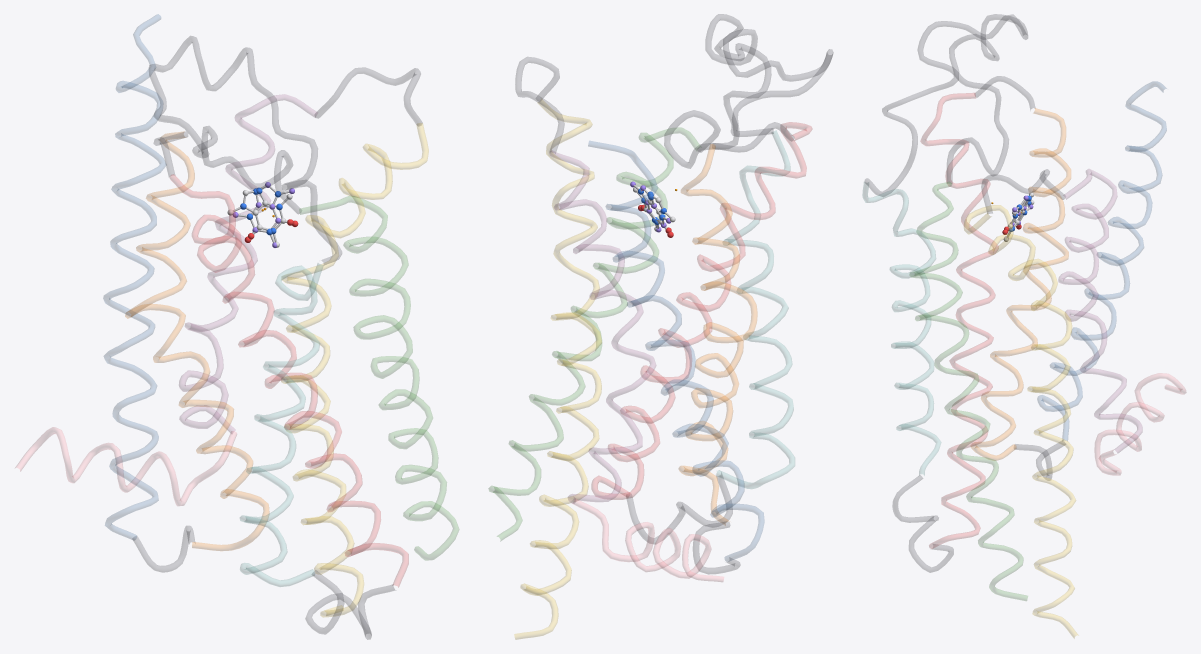
3 renders of one model, left to right at view 1: azimuth 30°, elevation 25°; view 2: azimuth 150°, elevation 25°; view 3: azimuth 270°, elevation 25°, orthographic. The views are drawn at different scales.
Bounding box in the file's own units: 39.18 × 71.09 × 38.17.
